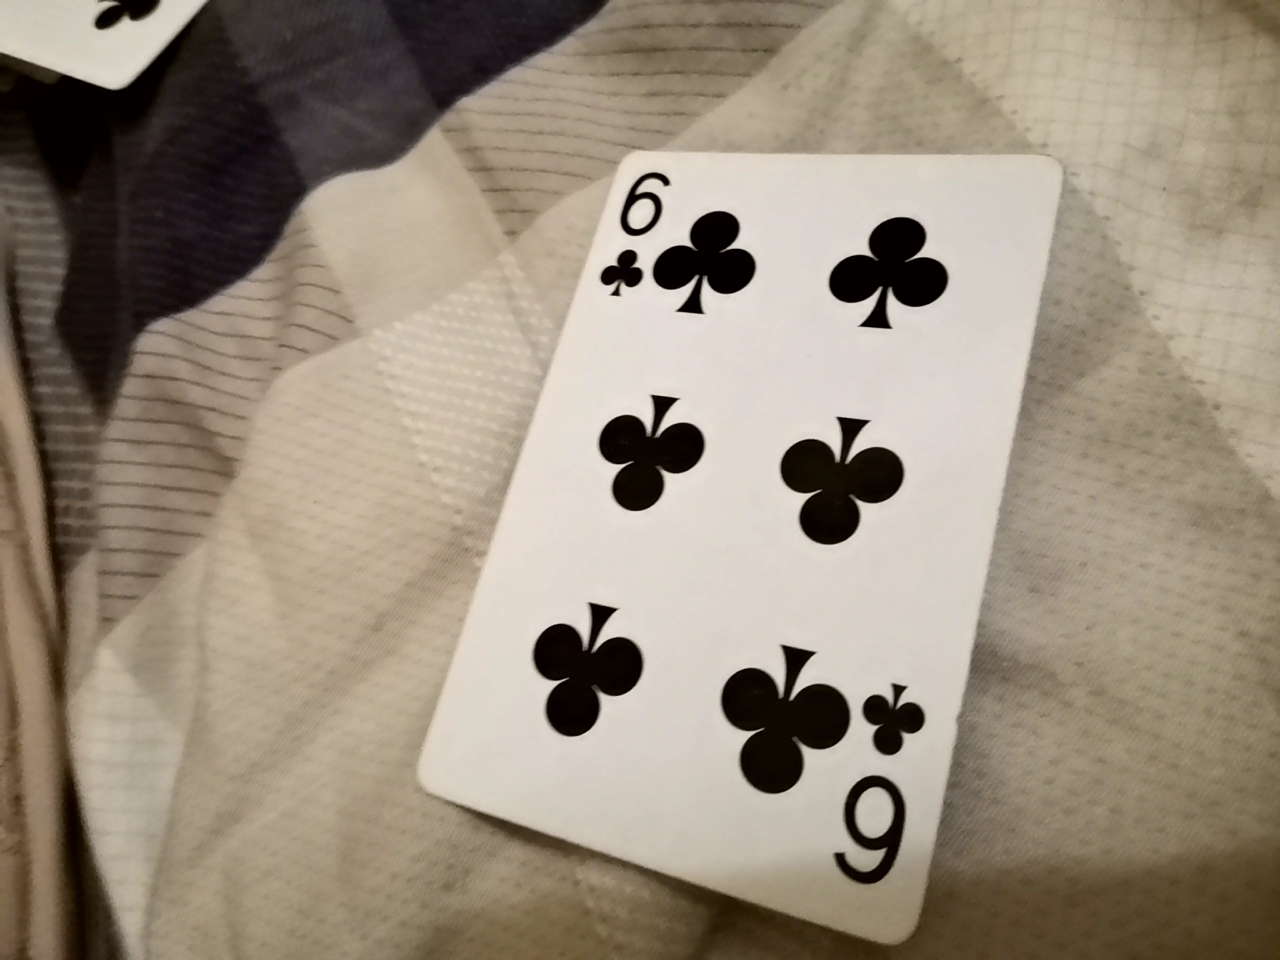mh 6: (426, 152, 1057, 926)
